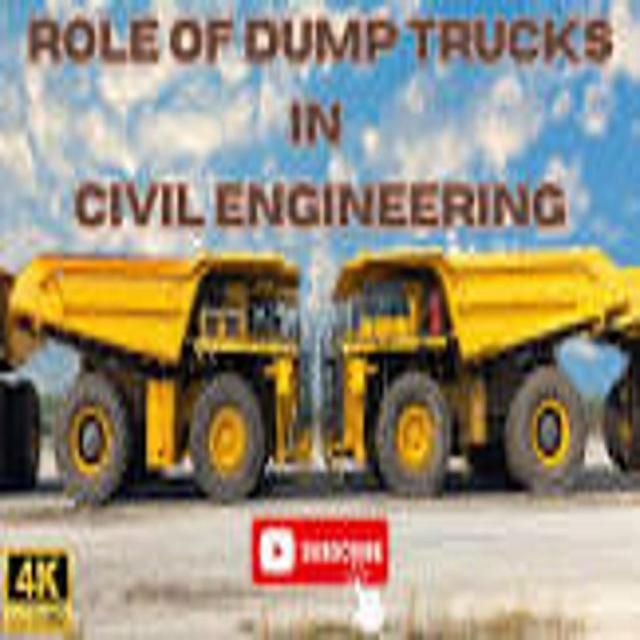dump_truck: (0, 247, 309, 507), (318, 248, 630, 487)
